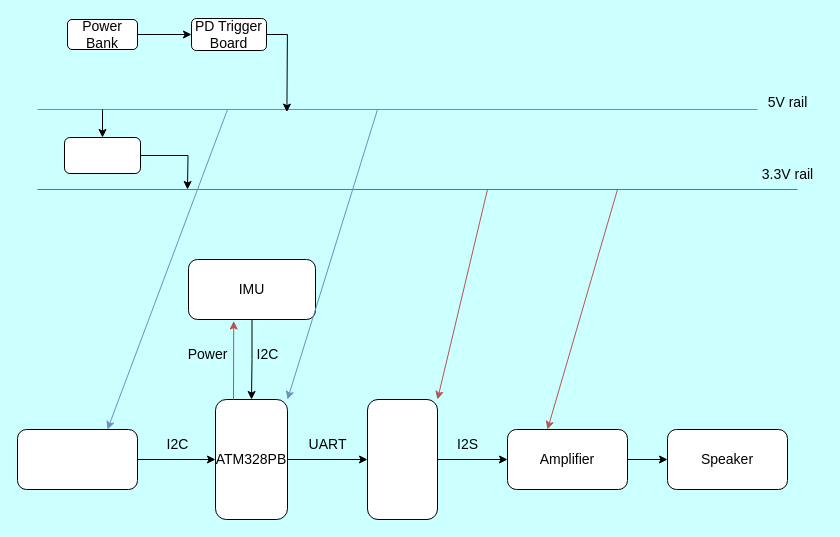
Image size: 840x537. Some labels were removed from this diagram. Here are the shapes that lost their labels. From the top down, the centre of each, then its label:
At pixel 102 155: "DC-DC Converter".
At pixel 77 459: "Keypad".
At pixel 402 459: "ESP32-S2".
